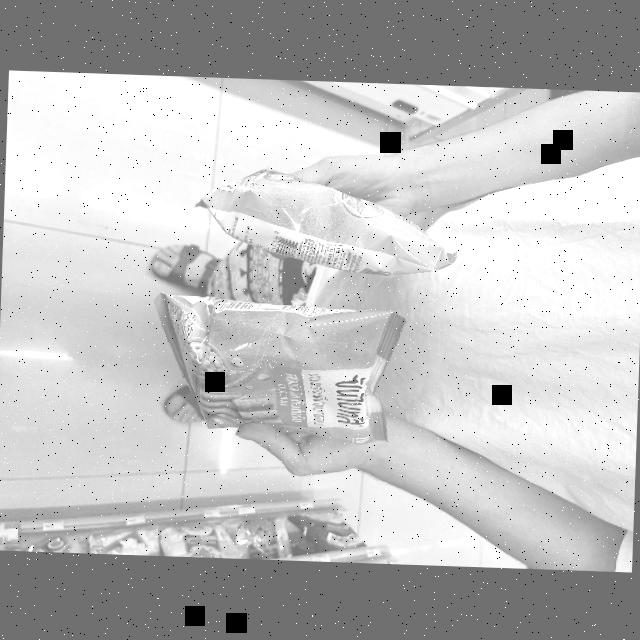snack_bag: (155, 279, 404, 444), (192, 162, 464, 278)
